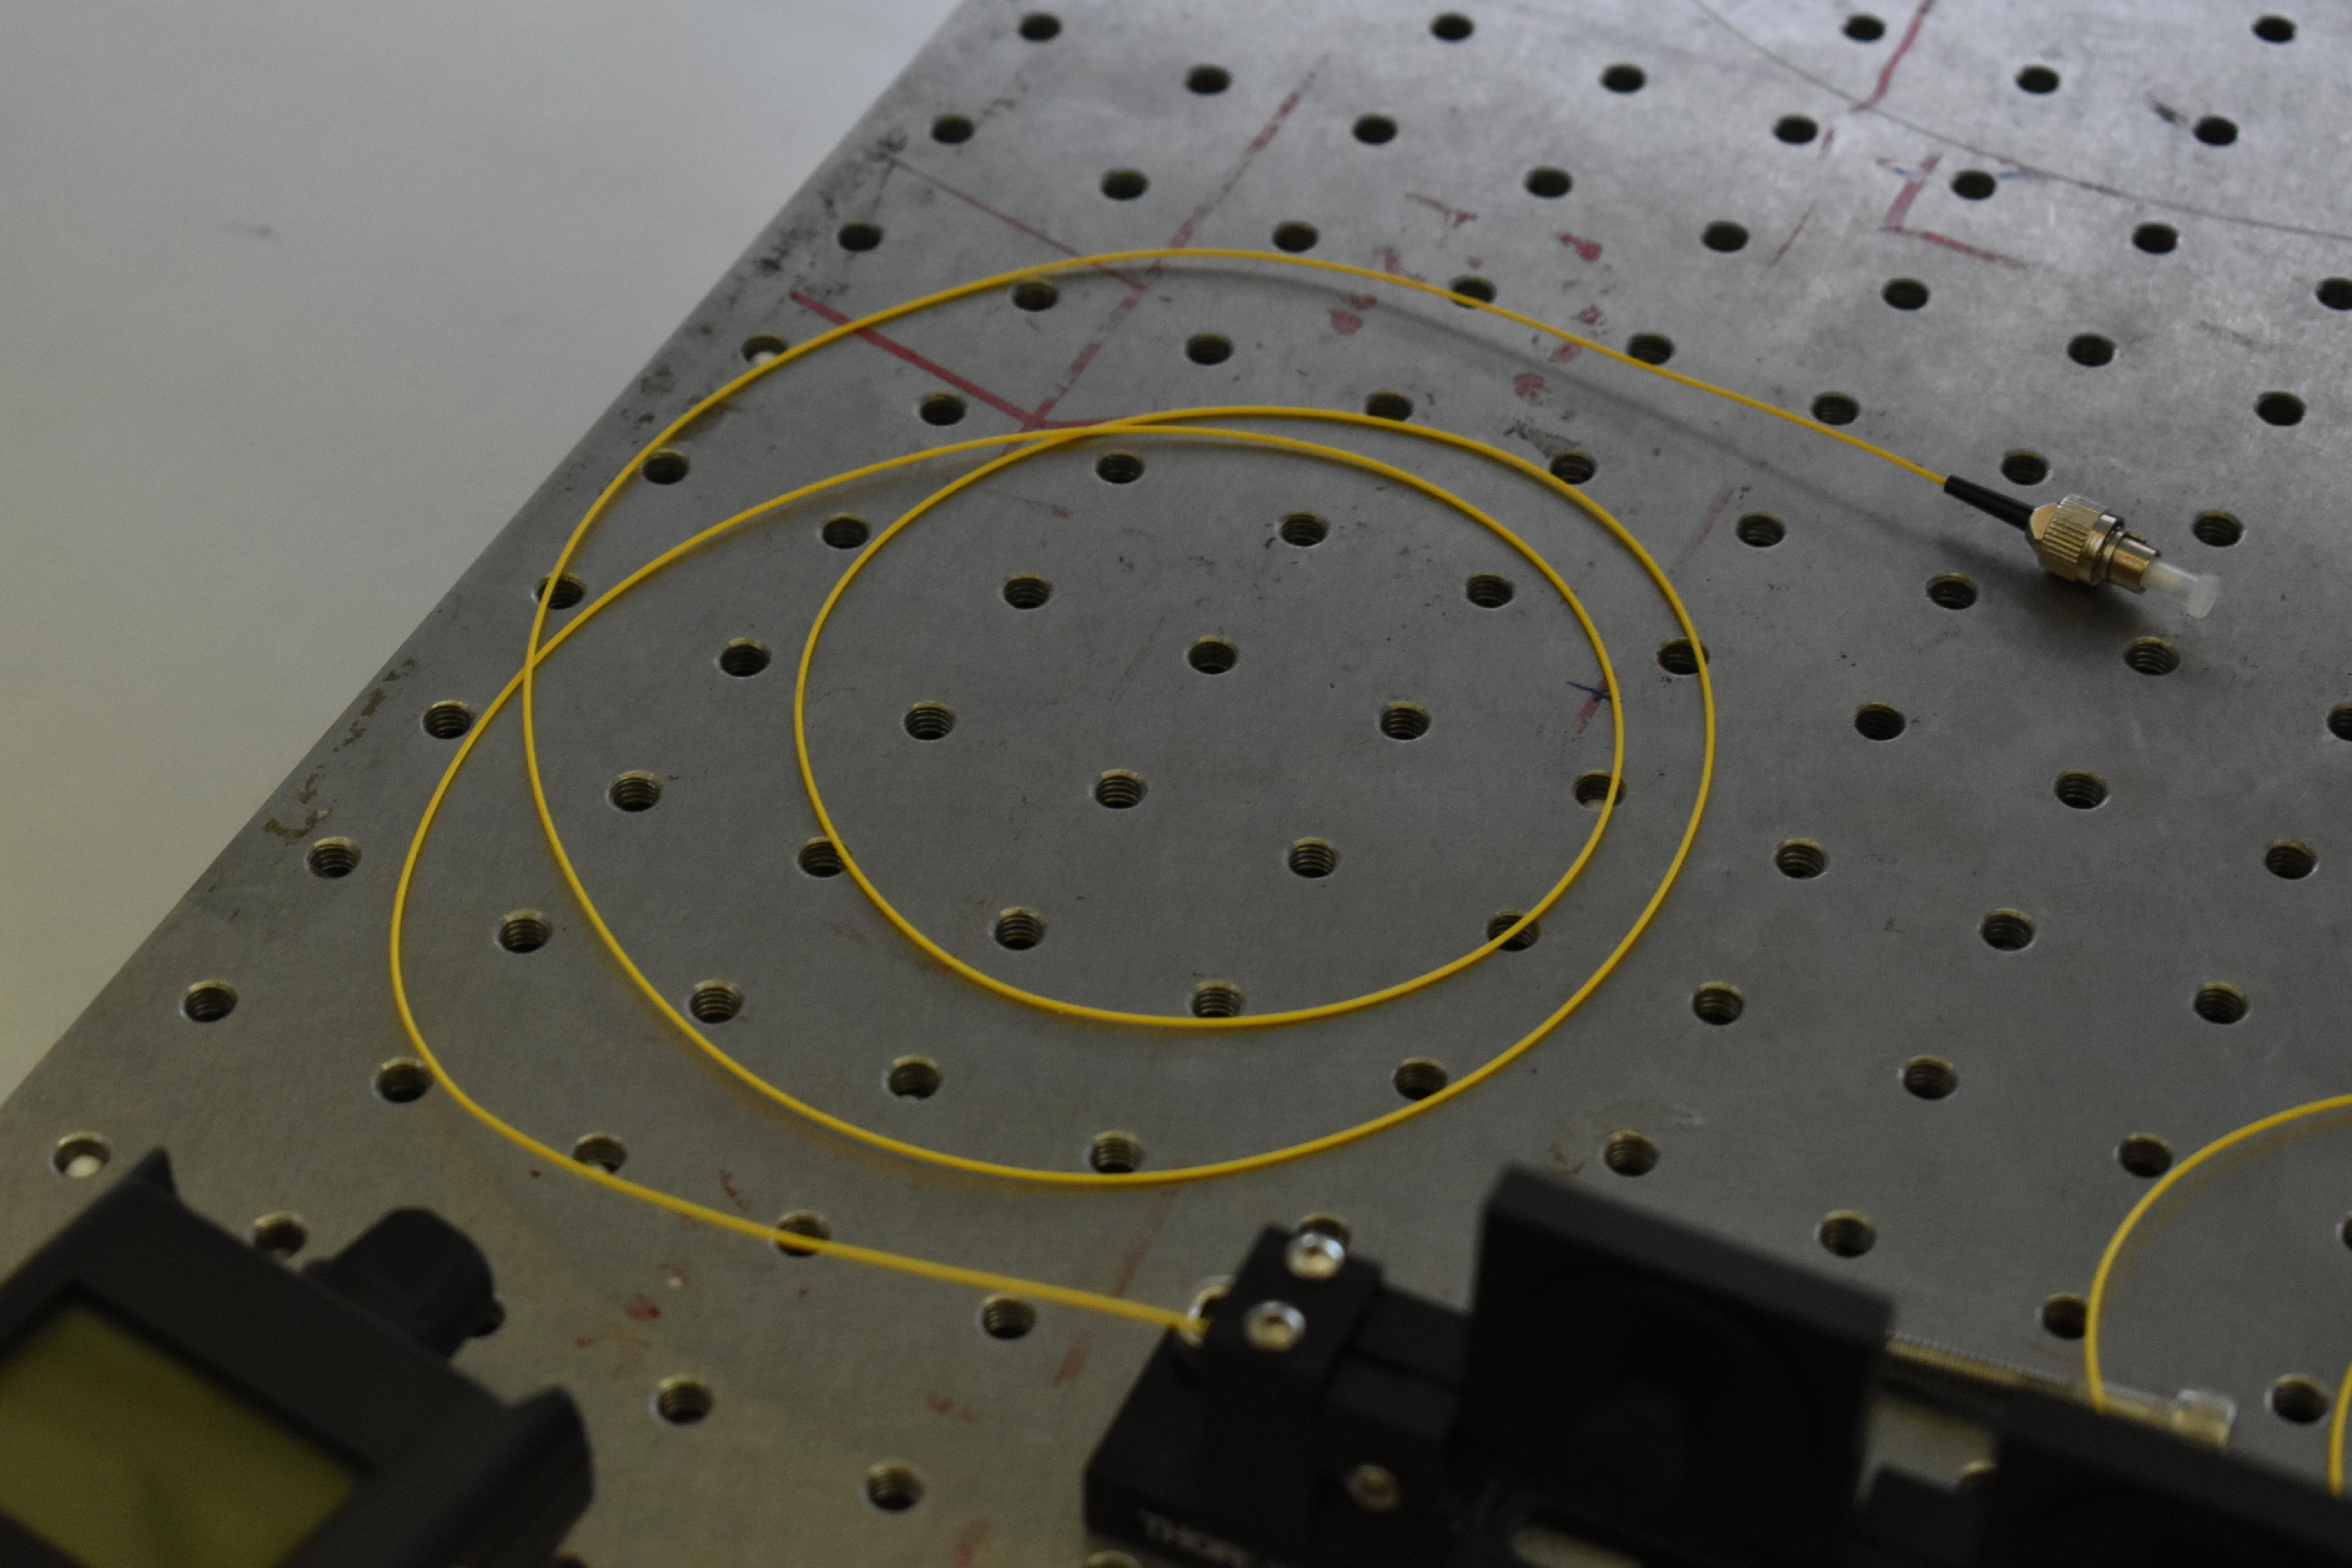fiber_cable: (357, 235, 2352, 1568)
